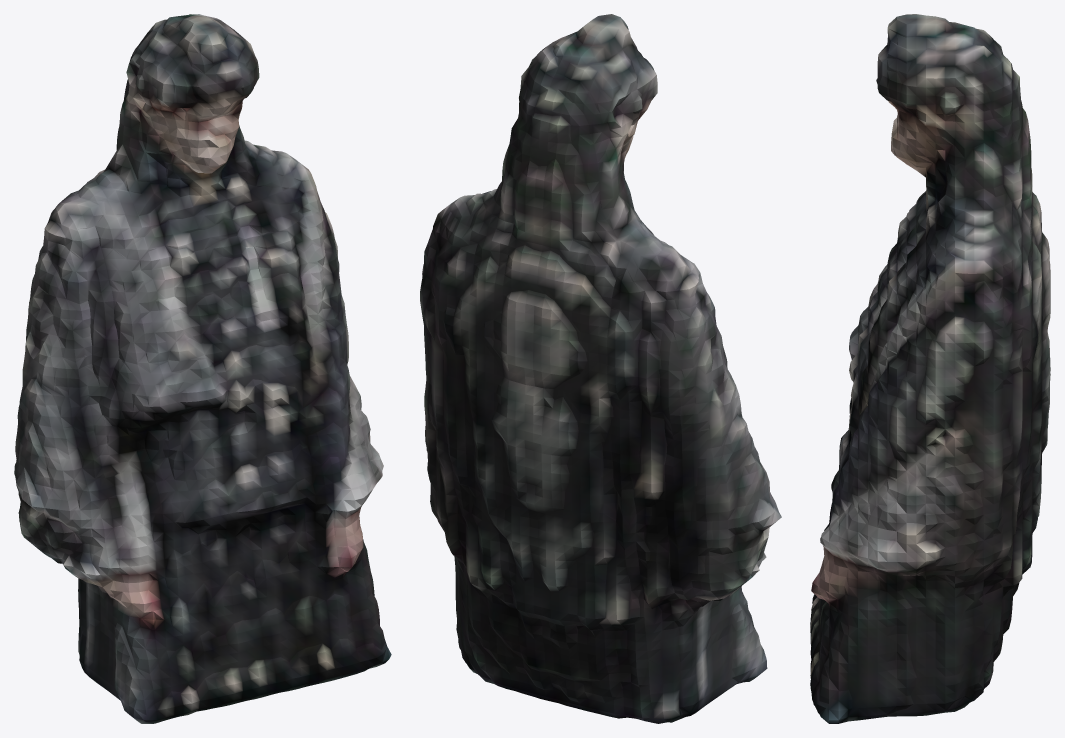
File: cheng-upper-body-v1.glb
The picture shows the model from 3 angles, left to right: view 1: azimuth 30°, elevation 25°; view 2: azimuth 150°, elevation 25°; view 3: azimuth 270°, elevation 25°; orthographic projection. The views are drawn at different scales.
Visible parts, largest first — view 1: world; view 2: world; view 3: world.
Part boxes in pixels (<box>): world: <box>14,14,391,723</box>; world: <box>420,14,781,723</box>; world: <box>810,14,1050,723</box>.
Bounding box in the file's own units: 0.5463 × 1 × 0.3401.
